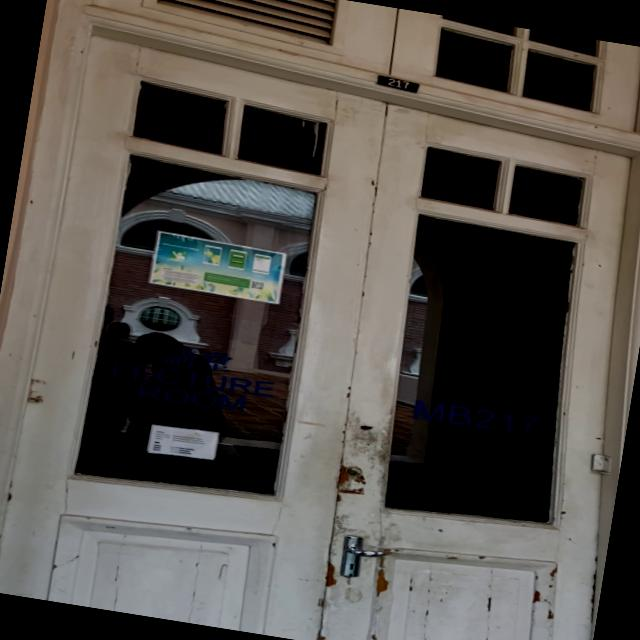room217: (372, 72, 423, 94)
room217Window: (402, 392, 546, 443)
